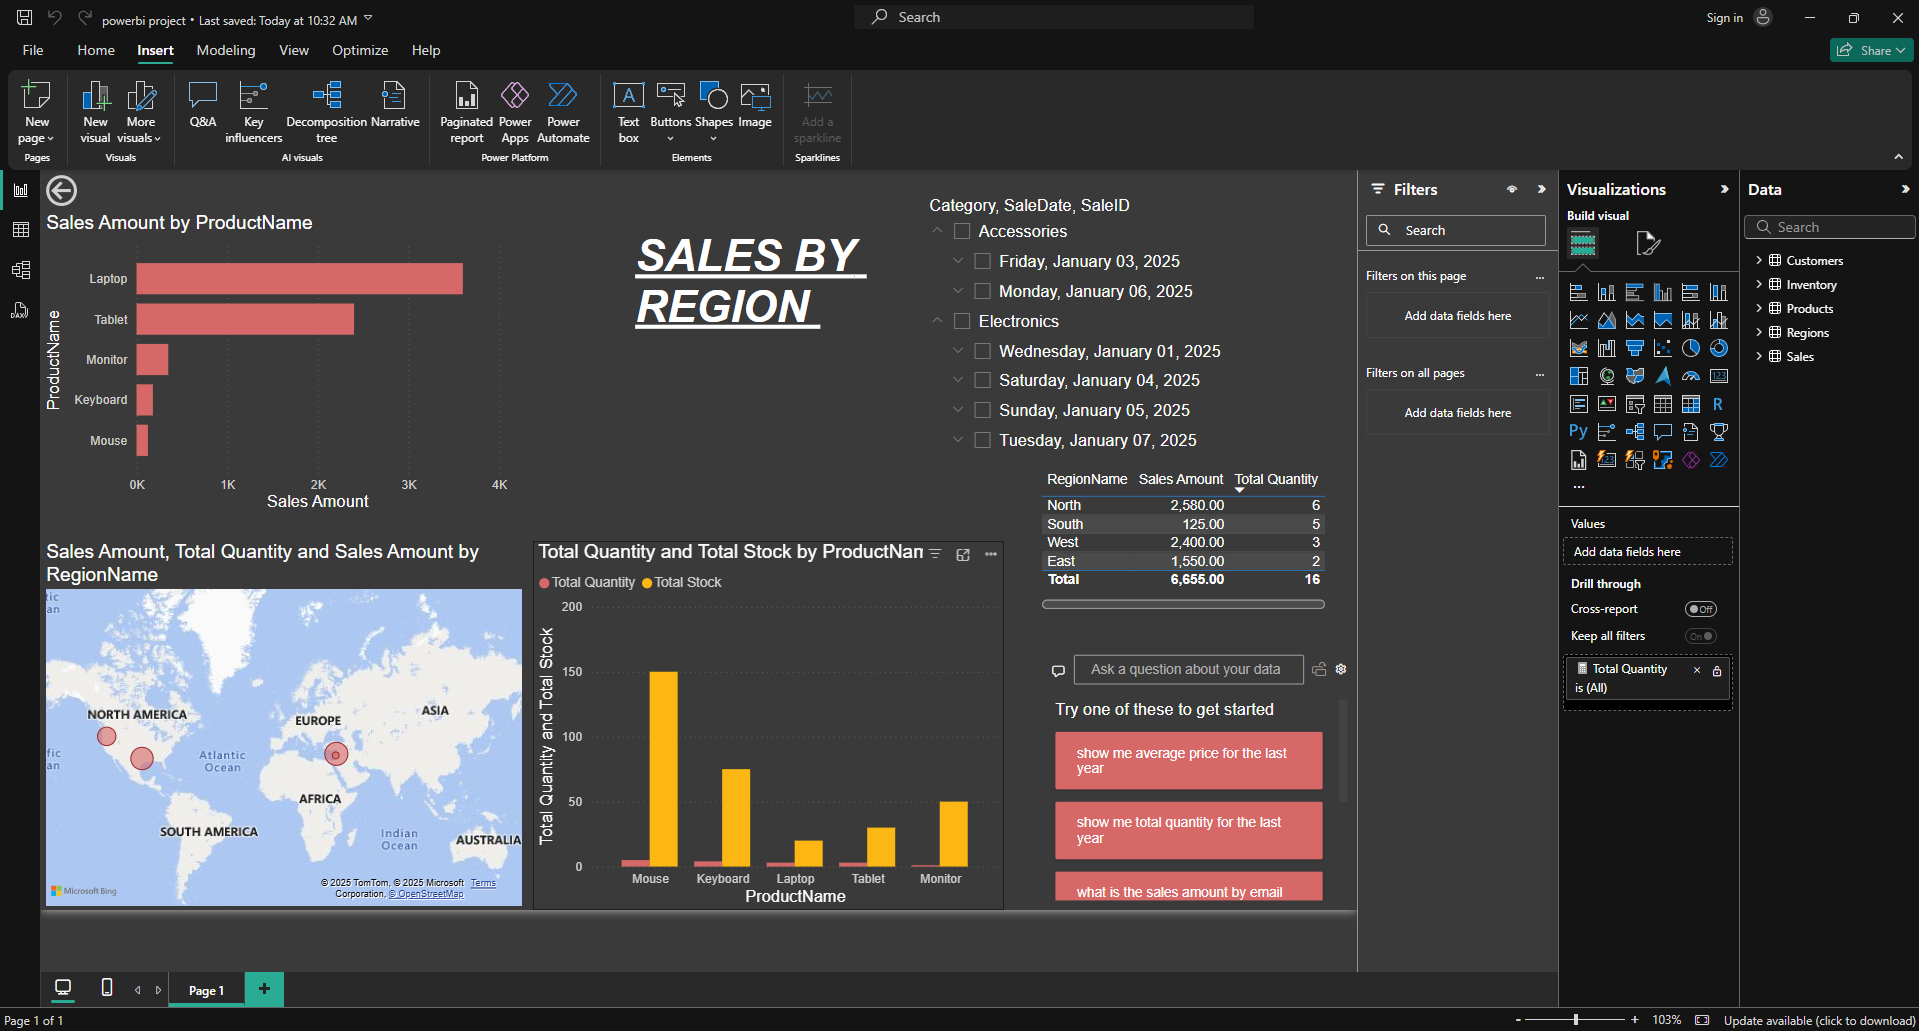

This screenshot's page, from the dashboard's own definition file:
{"tool":"powerbi","page":{"name":"Page 1","canvas":[1280,720],"ordinal":0},"visuals":[{"type":"map","fields":{"Category":["Regions.RegionName"],"Size":["Customers.Sales Amount"]},"box":[0,360.5,472.6,359.5],"z":0},{"type":"tableEx","fields":{"Values":["Regions.RegionName","Customers.Sales Amount","Customers.Total Quantity"]},"box":[967.4,286.9,286,145.3],"z":1000},{"type":"actionButton","box":[0,0,100,40],"z":2000},{"type":"barChart","fields":{"Category":["Products.ProductName"],"Y":["Customers.Sales Amount"]},"box":[0,40.5,458.9,295.2],"z":3000},{"type":"lineClusteredColumnComboChart","fields":{"Category":["Products.ProductName"],"Y":["Customers.Total Quantity","Customers.Total Stock"]},"box":[478.3,360.6,458.1,359.1],"z":4000},{"type":"slicer","fields":{"Values":["Products.Category","Sales.SaleDate","Sales.SaleID"]},"box":[851.5,20.2,408.3,266.7],"z":5000},{"type":"textbox","box":[572.7,54.2,249.2,168.7],"z":6000},{"type":"qnaVisual","box":[973.8,446.9,306.2,273.1],"z":7000}]}

Visuals, with their boxes on the page's 1280x720 design canvas (x1, y1, x2, y2). These are canvas units, not pixel positions in the 1919x1031 screenshot, which may show the page scaled, cropped or inside an application window:
map - Regions.RegionName x Customers.Sales Amount: <bbox>0, 360, 473, 720</bbox>
tableEx - Regions.RegionName x Customers.Sales Amount: <bbox>967, 287, 1253, 432</bbox>
actionButton: <bbox>0, 0, 100, 40</bbox>
barChart - Products.ProductName x Customers.Sales Amount: <bbox>0, 40, 459, 336</bbox>
lineClusteredColumnComboChart - Products.ProductName x Customers.Total Quantity: <bbox>478, 361, 936, 720</bbox>
slicer - Products.Category x Sales.SaleDate: <bbox>852, 20, 1260, 287</bbox>
textbox: <bbox>573, 54, 822, 223</bbox>
qnaVisual: <bbox>974, 447, 1280, 720</bbox>
